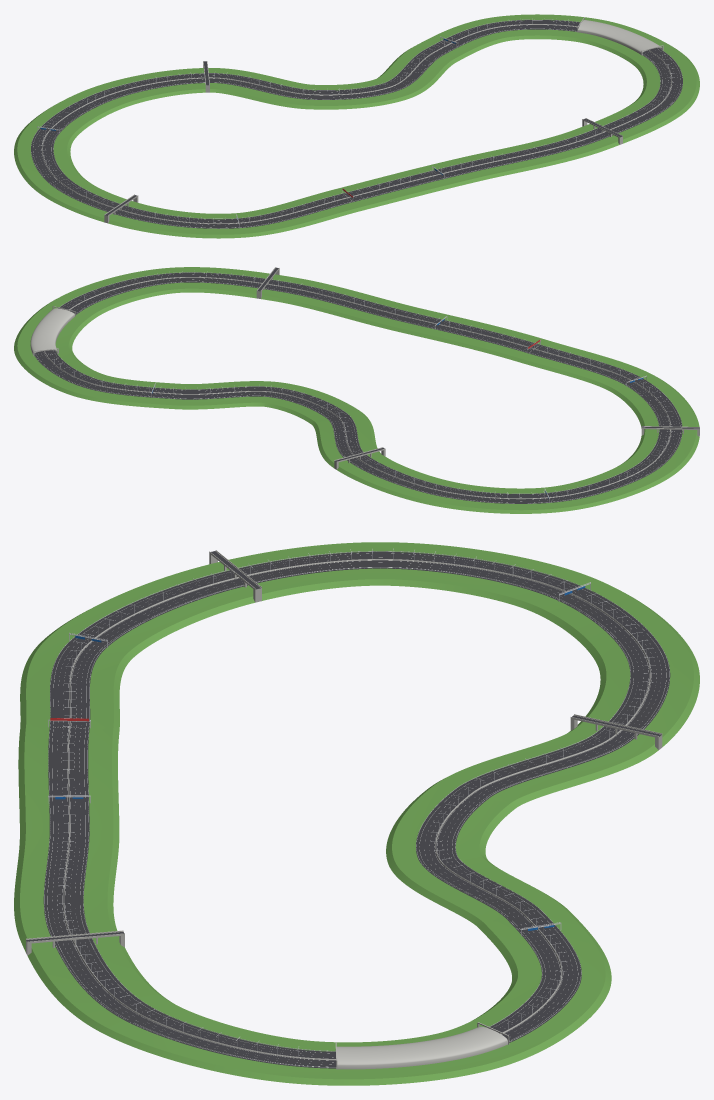
The model's file is Autobahn.fbx.
3 renders of one model, top to bottom at view 1: azimuth 30°, elevation 25°; view 2: azimuth 150°, elevation 25°; view 3: azimuth 270°, elevation 25°, orthographic. The views are drawn at different scales.
Parts seen in each view (by area): view 1: Gras_20, Gras_12, Gras_19, Gras_11, Gras_00, Gras_02, Gras_14, Gras_01, Gras_17, Gras_18, Gras_08, Gras_04 (+33 smaller); view 2: Gras_15, Gras_09, Gras_14, Gras_16, Gras_10, Gras_00, Gras_01, Gras_02, Gras_04, Gras_05, Gras_08, Gras_17 (+33 smaller); view 3: Gras_05, Gras_08, Gras_11, Gras_04, Gras_06, Gras_12, Gras_17, Gras_01, Gras_10, Gras_02, Gras_19, Gras_09 (+34 smaller).
Boxes of the visible parts, left/top/right/bottom form: Gras_20: left=212, top=205, right=302, bottom=238; Gras_12: left=236, top=73, right=324, bottom=109; Gras_19: left=124, top=205, right=214, bottom=238; Gras_11: left=321, top=78, right=416, bottom=109; Gras_00: left=337, top=171, right=431, bottom=210; Gras_02: left=475, top=139, right=571, bottom=176; Gras_14: left=83, top=71, right=177, bottom=109; Gras_01: left=405, top=154, right=499, bottom=192; Gras_17: left=16, top=159, right=93, bottom=201; Gras_18: left=53, top=185, right=147, bottom=227; Gras_08: left=471, top=14, right=563, bottom=42; Gras_04: left=603, top=96, right=691, bottom=136; Gras_15: left=444, top=483, right=537, bottom=513; Gras_09: left=93, top=378, right=186, bottom=409; Gras_14: left=364, top=465, right=460, bottom=507; Gras_16: left=532, top=477, right=626, bottom=513; Gras_10: left=184, top=381, right=271, bottom=409; Gras_00: left=449, top=321, right=547, bottom=361; Gras_01: left=376, top=304, right=475, bottom=343; Gras_02: left=308, top=285, right=404, bottom=326; Gras_04: left=159, top=267, right=251, bottom=295; Gras_05: left=75, top=269, right=169, bottom=309; Gras_08: left=26, top=359, right=116, bottom=400; Gras_17: left=593, top=454, right=684, bottom=496; Gras_05: left=107, top=1005, right=274, bottom=1077; Gras_08: left=479, top=967, right=611, bottom=1042; Gras_11: left=386, top=794, right=506, bottom=873; Gras_04: left=36, top=958, right=175, bottom=1035; Gras_06: left=246, top=1036, right=411, bottom=1085; Gras_12: left=419, top=744, right=593, bottom=815; Gras_17: left=332, top=542, right=492, bottom=592; Gras_01: left=19, top=785, right=119, bottom=850; Gras_10: left=394, top=857, right=563, bottom=925; Gras_02: left=14, top=845, right=118, bottom=909; Gras_19: left=70, top=571, right=234, bottom=644; Gras_09: left=476, top=903, right=610, bottom=974.
Bounding box in the file's own units: 3642 × 82.48 × 1958.
